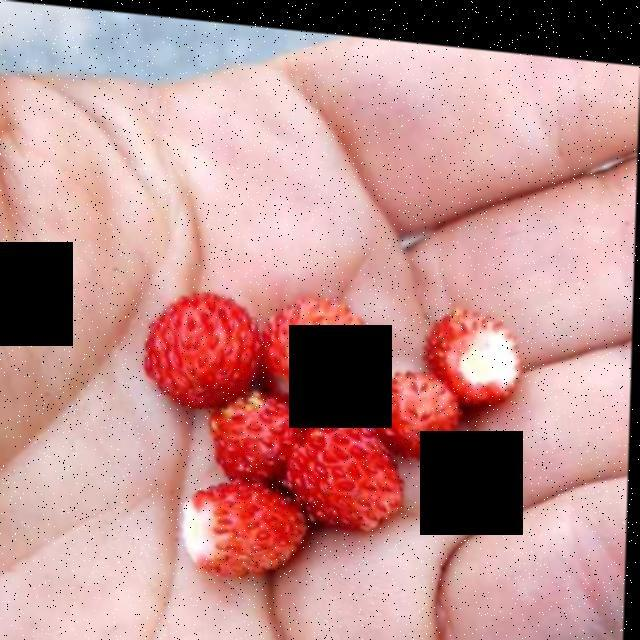strawberries: (135, 291, 535, 629), (162, 275, 493, 590)
